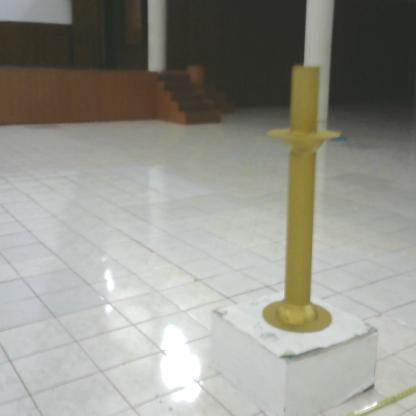pole: (261, 58, 345, 339)
